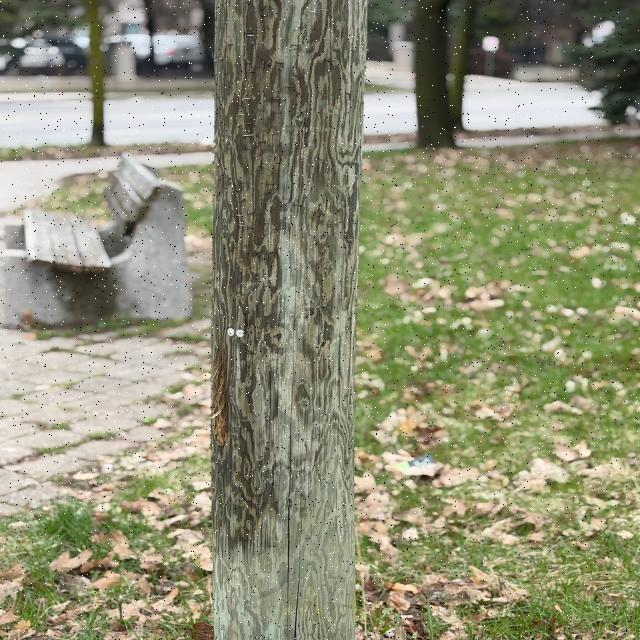Electrical Pole: (201, 0, 378, 638)
